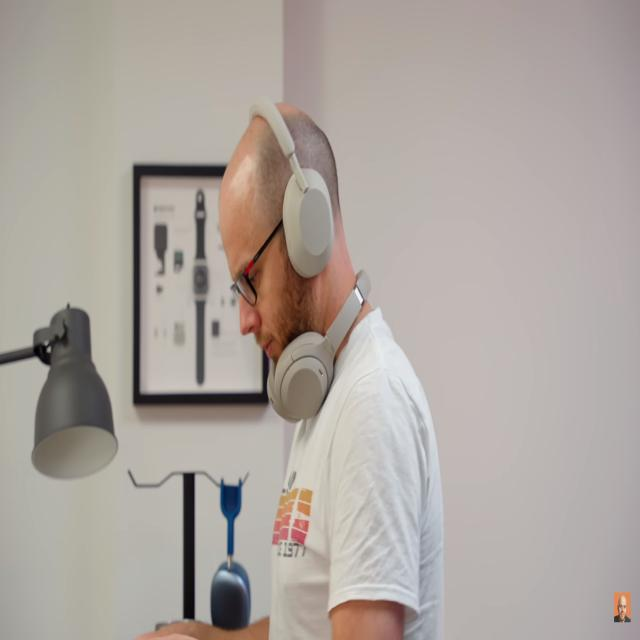Headphone: (264, 267, 374, 425), (248, 94, 336, 282)
